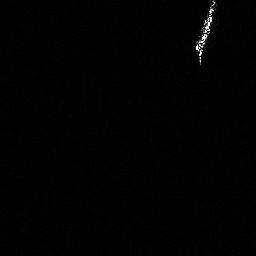ship: (192, 1, 220, 66)
